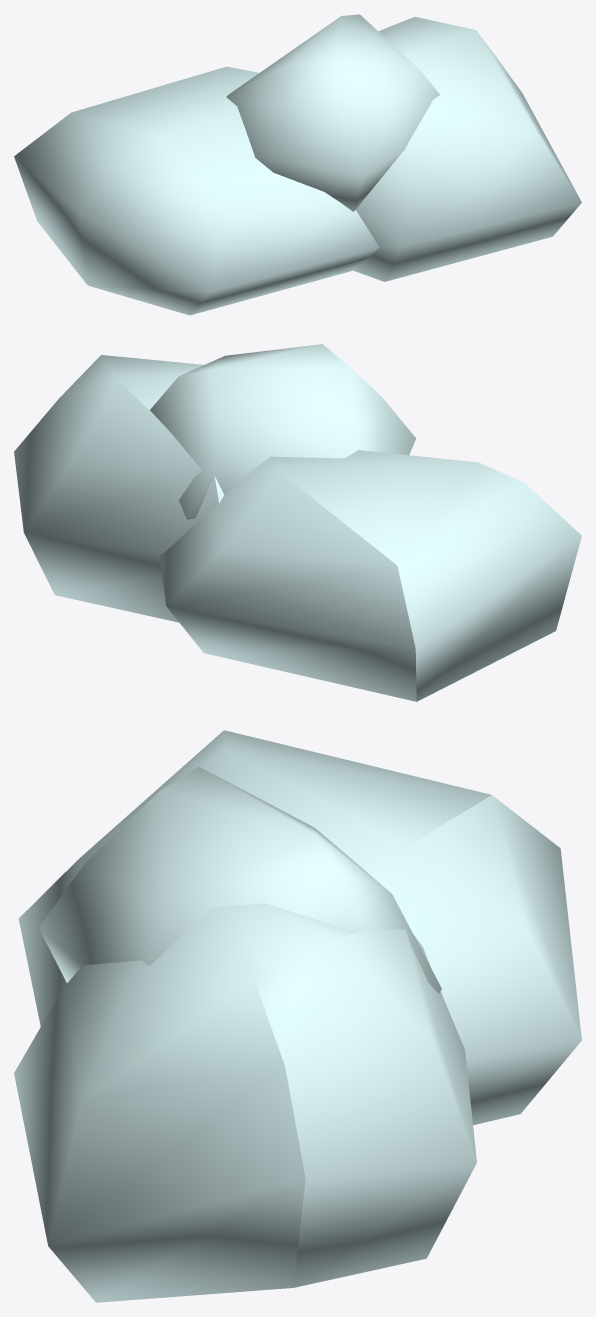
The model's file is Snow_0_1.fbx.
3 renders of one model, top to bottom at view 1: azimuth 30°, elevation 25°; view 2: azimuth 150°, elevation 25°; view 3: azimuth 270°, elevation 25°, orthographic. The views are drawn at different scales.
Visible parts, largest first — view 1: Floating_Rock_1_Big_0_1.008; view 2: Floating_Rock_1_Big_0_1.008; view 3: Floating_Rock_1_Big_0_1.008.
Part boxes in pixels (x1,y1,x2,y2): Floating_Rock_1_Big_0_1.008: [14, 14, 581, 315]; Floating_Rock_1_Big_0_1.008: [14, 344, 581, 701]; Floating_Rock_1_Big_0_1.008: [14, 730, 581, 1302].
Bounding box in the file's own units: 108 × 45.58 × 66.89.
